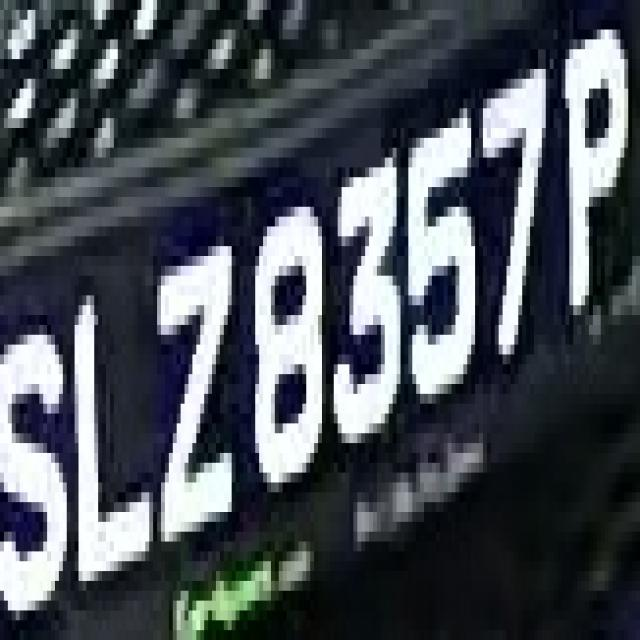3: (318, 168, 416, 472)
5: (396, 119, 491, 424)
7: (479, 79, 550, 384)
8: (247, 197, 334, 512)
L: (71, 276, 165, 590)
P: (558, 29, 636, 334)
S: (4, 286, 63, 620)
Z: (142, 246, 252, 542)
